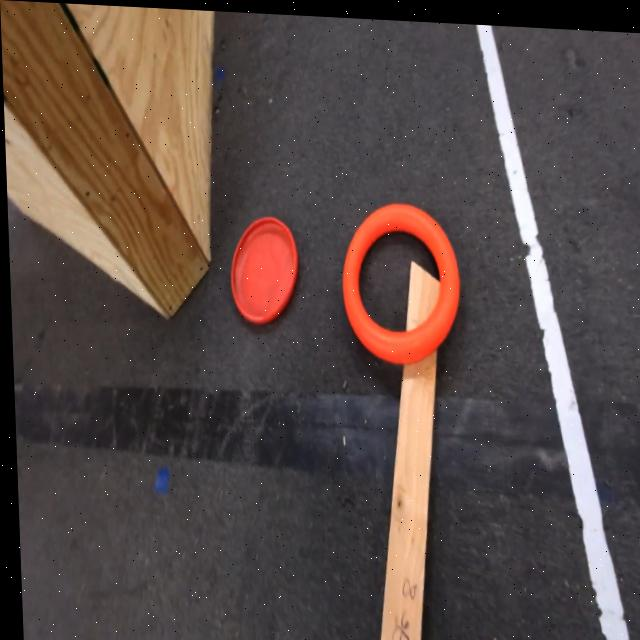note: (335, 202, 457, 364)
